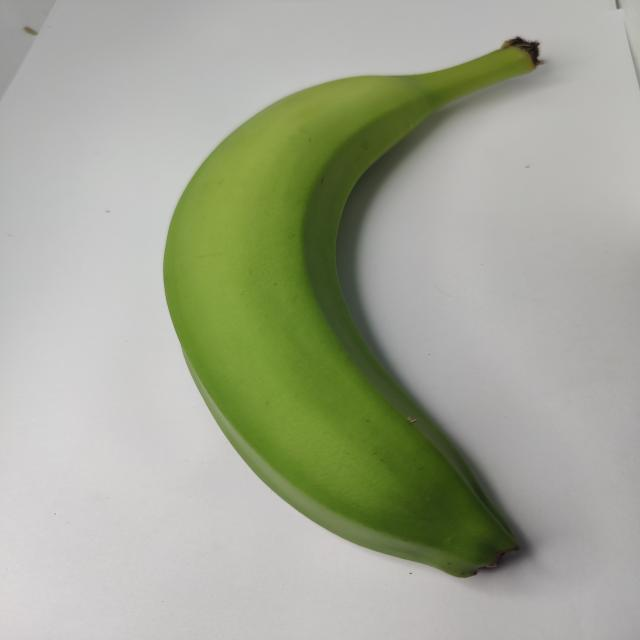raw: (107, 35, 591, 601)
